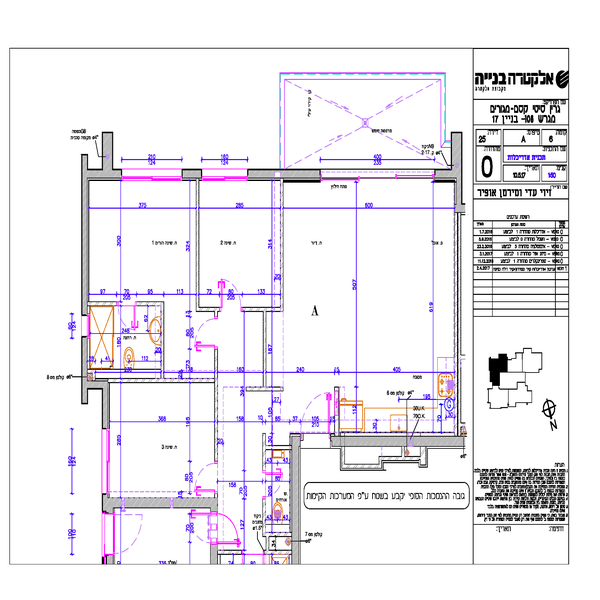door: (301, 392, 338, 440), (213, 512, 250, 553), (217, 273, 252, 314), (187, 317, 225, 354), (187, 458, 222, 496)
room: (280, 167, 472, 451), (77, 156, 287, 312), (100, 374, 221, 504)
wall: (287, 434, 304, 571), (96, 494, 217, 511), (80, 154, 91, 310), (333, 435, 463, 448), (247, 170, 322, 184), (79, 340, 92, 405), (437, 168, 460, 182)
window: (124, 165, 182, 182), (202, 168, 249, 180)
